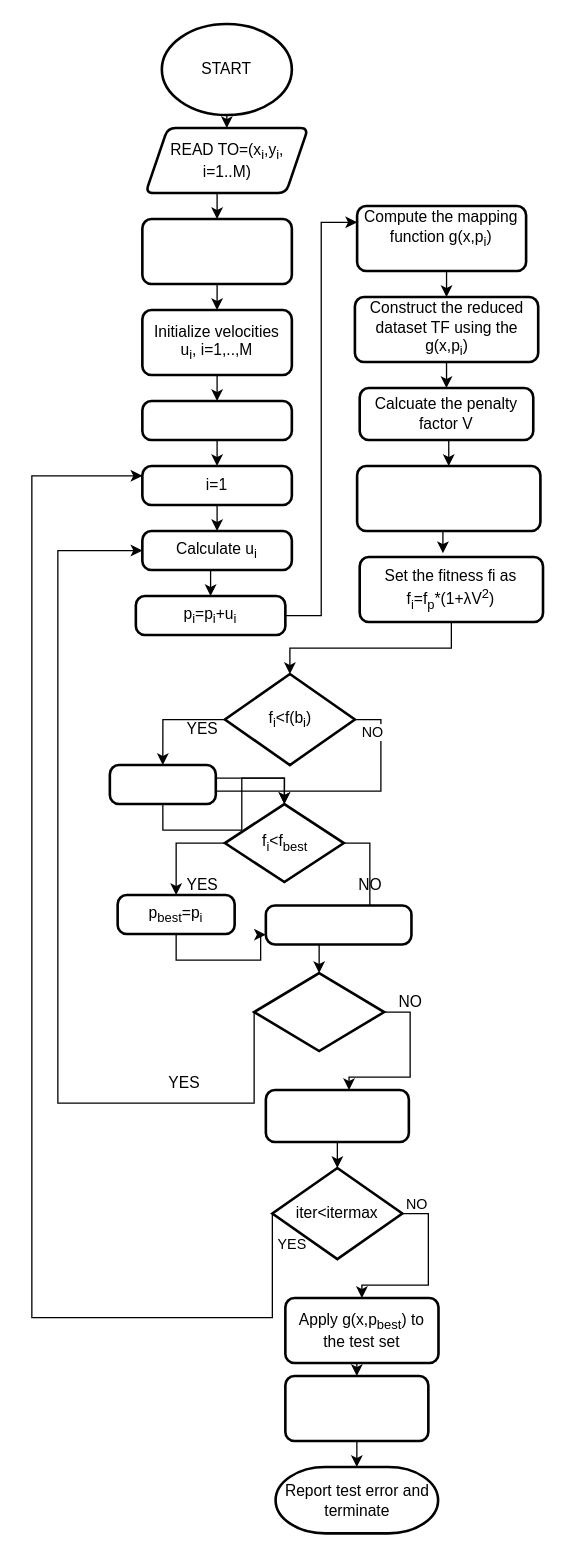
The diagram is 567 pixels wide and 1556 high, and some of its shapes have lost their labels. Each missing label, with the centre of its shape:
Apply a machine learning model to the reduced test set: the point at 356,1408
b i =p i: the point at 162,784
i<=m: the point at 318,1011
i=i+1: the point at 338,924
Initialize positions p i , i=1,..,M: the point at 216,251
iter=0: the point at 216,420
iter=iter+1: the point at 337,1115
Train an RBF network on set TF with error f p: the point at 448,498
